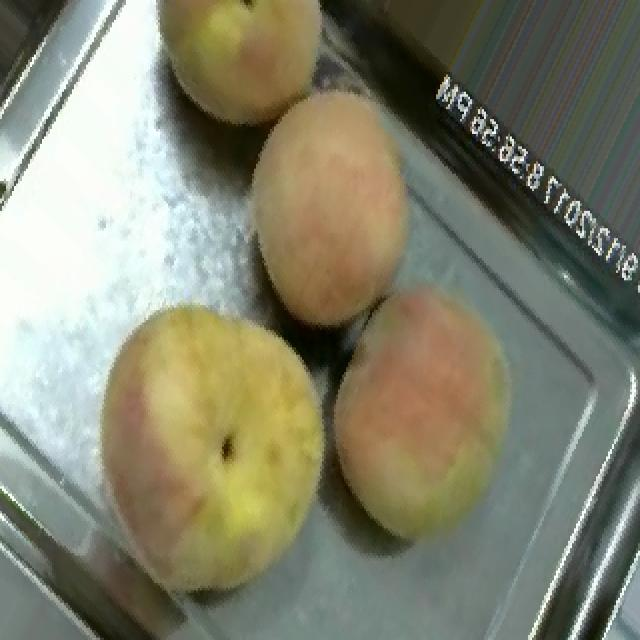Fruit: (54, 263, 360, 625), (288, 255, 556, 576), (204, 52, 446, 352), (124, 0, 356, 154)
